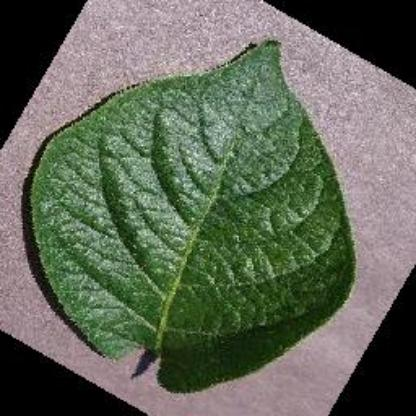Healthy-plant: (19, 35, 368, 400)
